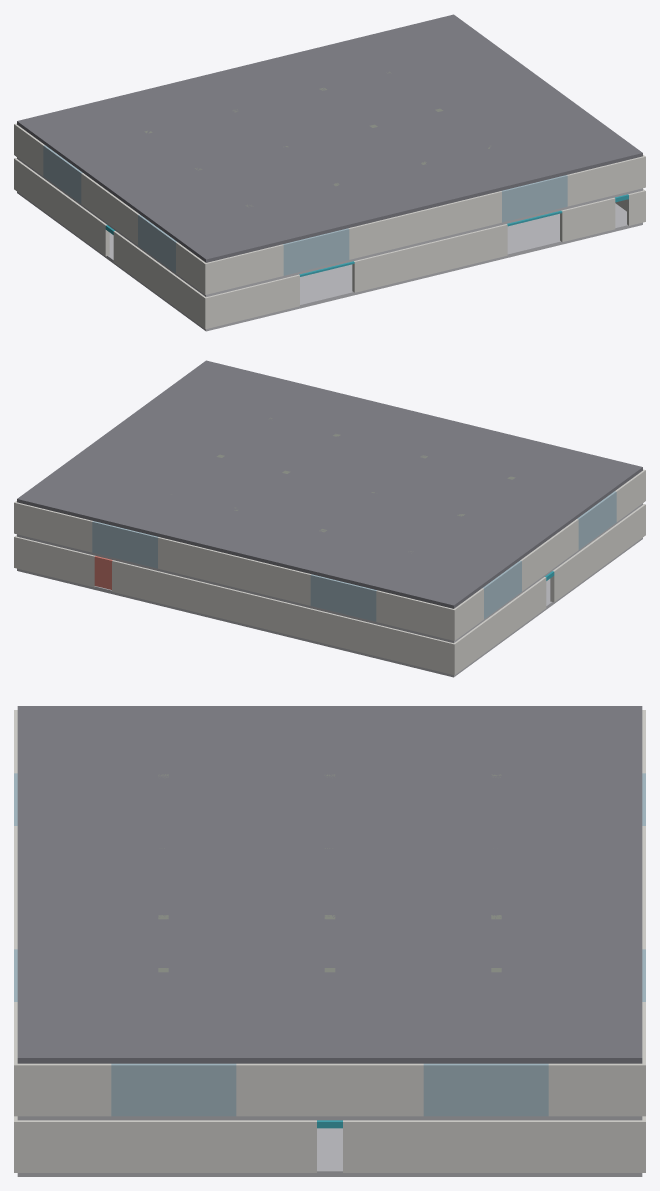
File: parking_garage_a02.glb
3 renders of one model, top to bottom at view 1: azimuth 30°, elevation 25°; view 2: azimuth 150°, elevation 25°; view 3: azimuth 270°, elevation 25°, orthographic. The views are drawn at different scales.
Visible parts, largest first — view 1: slab_2_t0_0, slab_2_t0_4, slab_2_t0_6, slab_2_t0_7, slab_2_t0_1, slab_2_t0_2, slab_2_t0_3, slab_2_t0_5, slab_2_t1_0, slab_2_t5_0, slab_2_t4_0, slab_2_t2_0 (+79 smaller); view 2: slab_2_t5_0, slab_2_t5_4, slab_2_t5_6, slab_2_t5_7, slab_2_t5_1, slab_2_t5_2, slab_2_t5_3, slab_2_t5_5, slab_2_t0_0, slab_2_t4_0, slab_2_t1_0, slab_2_t3_0 (+81 smaller); view 3: slab_2_t0_7, slab_2_t1_7, slab_2_t4_7, slab_2_t5_7, slab_2_t2_7, slab_2_t3_7, slab_2_t0_0, slab_2_t0_1, slab_2_t0_2, slab_2_t0_3, slab_2_t0_4, slab_2_t0_5 (+65 smaller).
Part boxes in pixels (<box>): slab_2_t0_0: <box>174,223,260,262</box>; slab_2_t0_4: <box>393,170,479,209</box>; slab_2_t0_6: <box>502,143,588,182</box>; slab_2_t0_7: <box>557,130,642,169</box>; slab_2_t0_1: <box>229,210,315,249</box>; slab_2_t0_2: <box>284,196,369,236</box>; slab_2_t0_3: <box>338,183,424,222</box>; slab_2_t0_5: <box>448,156,533,196</box>; slab_2_t1_0: <box>143,200,228,239</box>; slab_2_t5_0: <box>17,108,102,147</box>; slab_2_t4_0: <box>48,131,134,170</box>; slab_2_t2_0: <box>111,177,196,216</box>; slab_2_t5_0: <box>399,569,485,608</box>; slab_2_t5_4: <box>180,516,266,555</box>; slab_2_t5_6: <box>71,489,157,528</box>; slab_2_t5_7: <box>17,476,102,515</box>; slab_2_t5_1: <box>344,556,430,595</box>; slab_2_t5_2: <box>290,542,375,582</box>; slab_2_t5_3: <box>235,529,321,568</box>; slab_2_t5_5: <box>126,502,211,542</box>; slab_2_t0_0: <box>557,454,642,493</box>; slab_2_t4_0: <box>431,546,516,585</box>; slab_2_t1_0: <box>525,477,611,516</box>; slab_2_t3_0: <box>463,523,548,562</box>; slab_2_t0_7: <box>17,1014,121,1063</box>; slab_2_t1_7: <box>121,1014,225,1063</box>; slab_2_t4_7: <box>434,1014,538,1063</box>; slab_2_t5_7: <box>538,1014,642,1063</box>; slab_2_t2_7: <box>226,1014,329,1063</box>; slab_2_t3_7: <box>330,1014,433,1063</box>; slab_2_t0_0: <box>17,706,121,749</box>; slab_2_t0_1: <box>17,750,121,793</box>; slab_2_t0_2: <box>17,794,121,837</box>; slab_2_t0_3: <box>17,838,121,881</box>; slab_2_t0_4: <box>17,882,121,925</box>; slab_2_t0_5: <box>17,926,121,969</box>.
Size of what is drawn, in the model's own units: 40.35 by 6.3 by 30.35.
